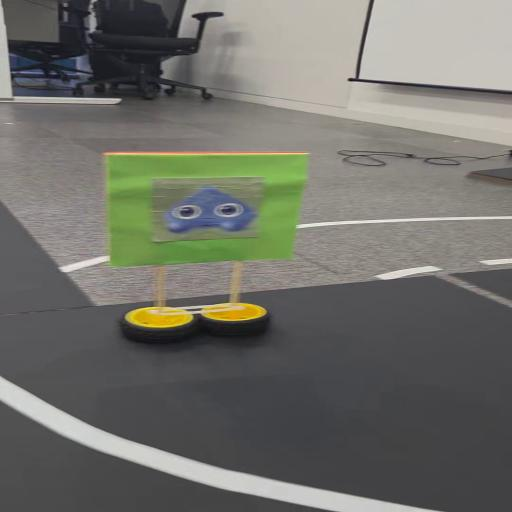Sign_B: (92, 152, 313, 346)
